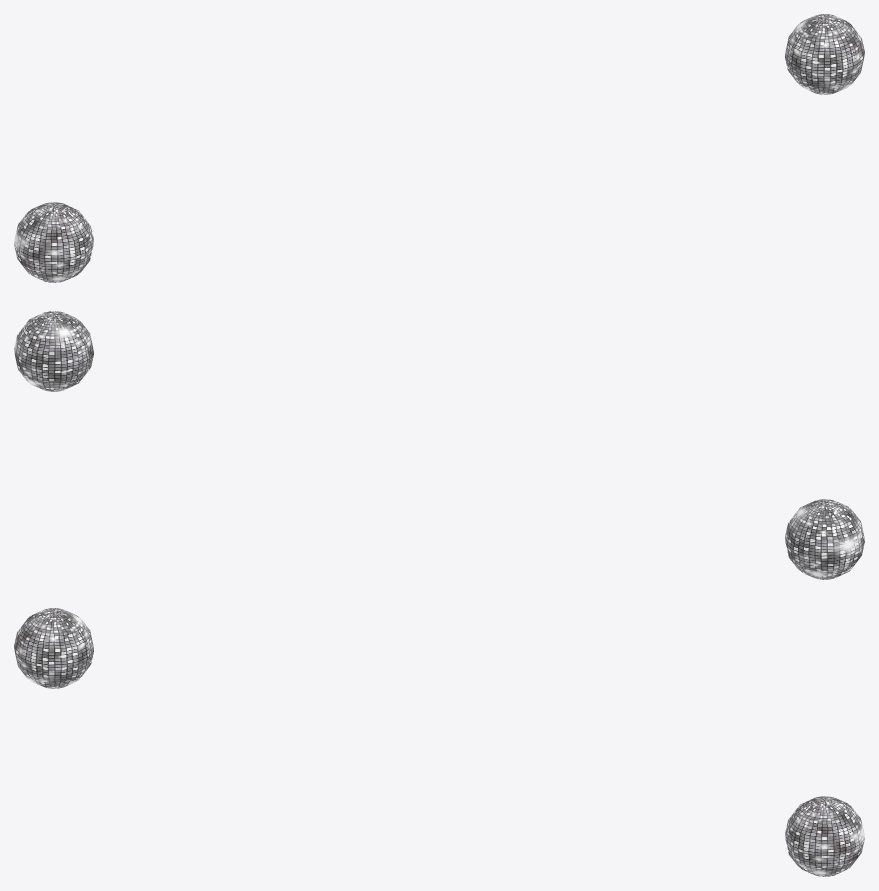
The model's file is lamp_under_stages.glb.
3 views of the same model, one above another, from view 1: azimuth 30°, elevation 25°; view 2: azimuth 150°, elevation 25°; view 3: azimuth 330°, elevation 25° (orthographic).
Visible parts, largest first — view 1: Lamp Under Stages; view 2: Lamp Under Stages; view 3: Lamp Under Stages.
Boxes of the visible parts, bbox=[...] form: Lamp Under Stages: bbox=[14, 14, 864, 282]; Lamp Under Stages: bbox=[14, 311, 864, 579]; Lamp Under Stages: bbox=[14, 608, 864, 876].
Size of what is drawn, in the model's own units: 19.16 by 1.6 by 1.6.
1 material, 1 textured.
